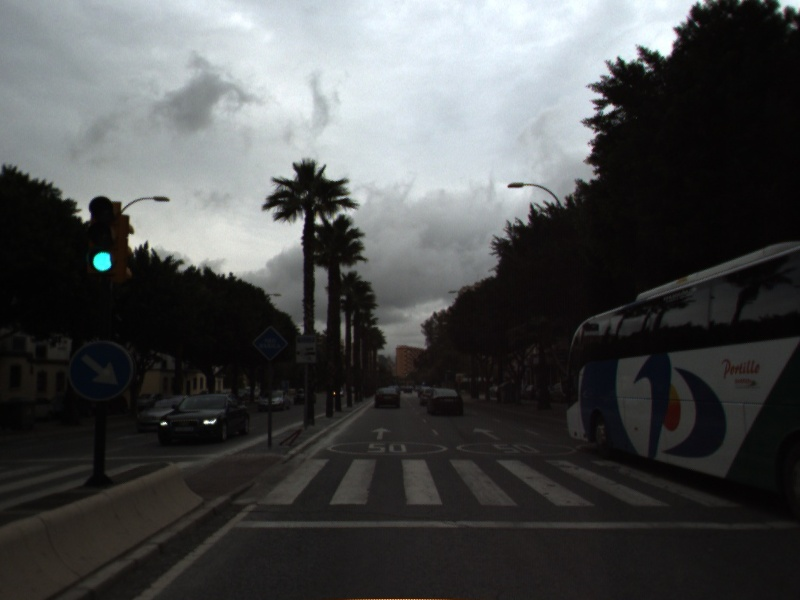STRAIGHT: (470, 425, 503, 442), (369, 425, 394, 442)
